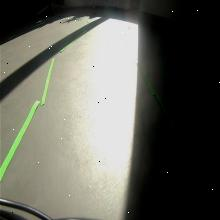crosswalk: (187, 63, 211, 91)
